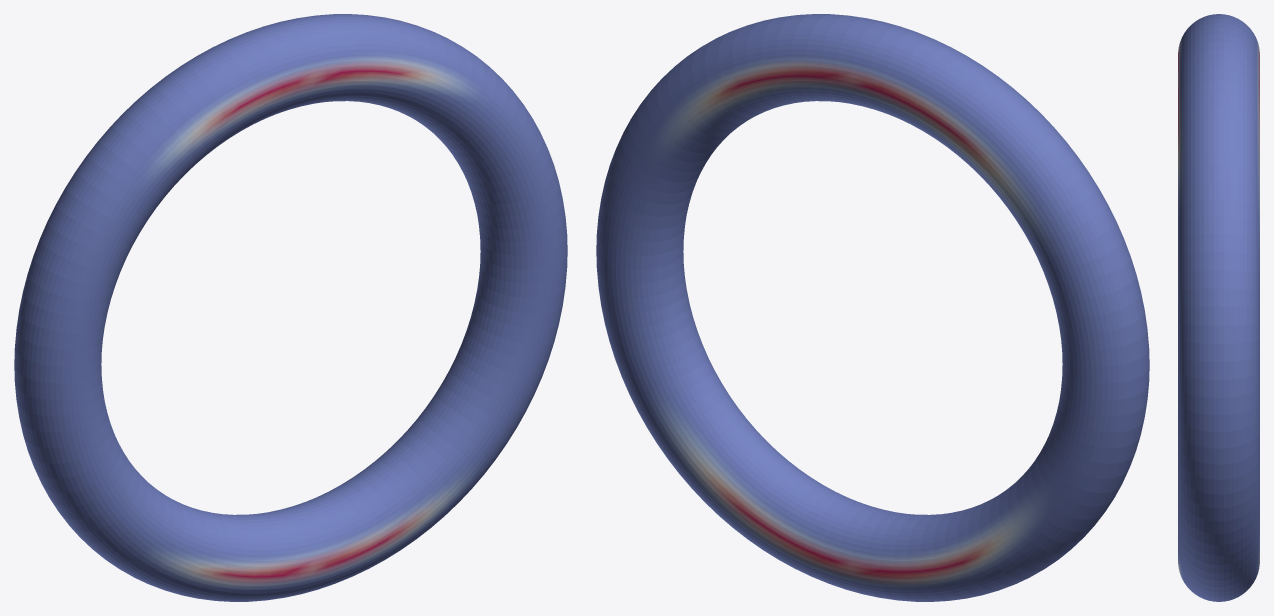
3 views of the same model, side by side, from view 1: azimuth 30°, elevation 25°; view 2: azimuth 150°, elevation 25°; view 3: azimuth 270°, elevation 25° (orthographic). The views are drawn at different scales.
Visible parts, largest first — view 1: world; view 2: world; view 3: world.
Boxes of the visible parts, left/top/right/bottom form: world: left=14, top=14, right=567, bottom=601; world: left=596, top=14, right=1149, bottom=601; world: left=1178, top=14, right=1259, bottom=601.
Size of the model in its own units: 16.27 by 16.27 by 2.26.
